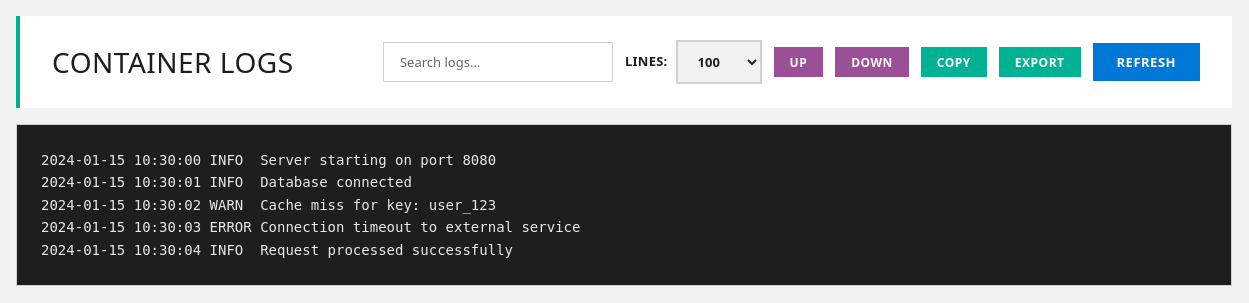
Test: LogsView › search functionality › clears search with clear button
The image size is (1249, 303).
Expected: the text "Server starting" is shown, top-left (41, 152), bottom-right (580, 258)
Type "ERROR" into the field with placeholder "Search logs...".
click(498, 62); type("ERROR")  # box top-left (383, 42), bottom-right (613, 82)
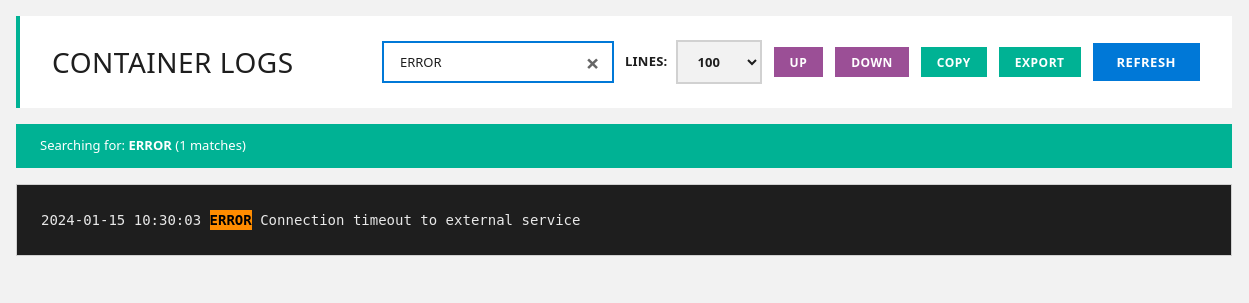
Expected: the button titled "Clear search" is shown
Click the button titled "Clear search".
click(593, 62)  # box top-left (581, 50), bottom-right (605, 74)
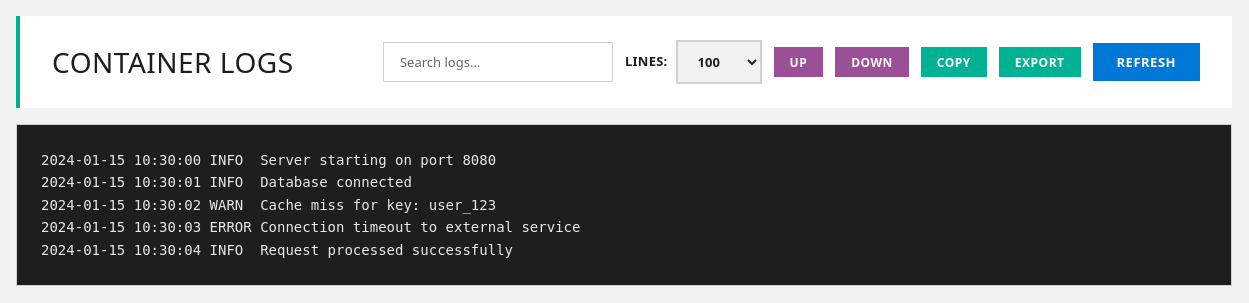
Expected: the text "Searching for:" is gone
